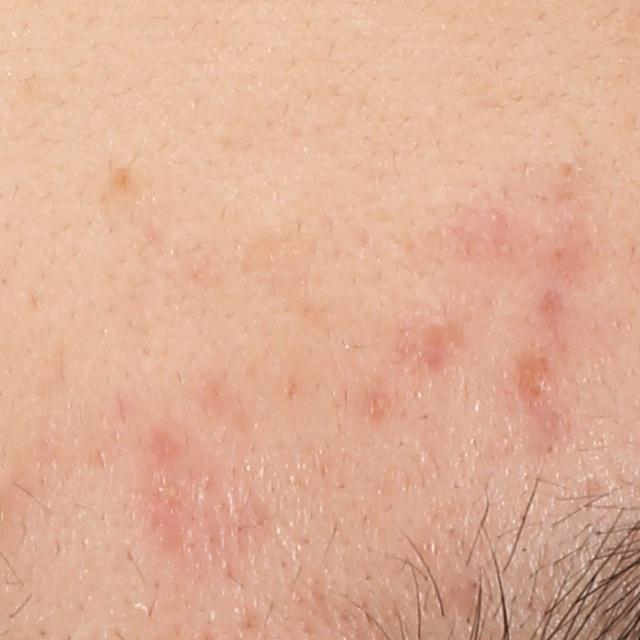papule: (516, 361, 552, 406)
